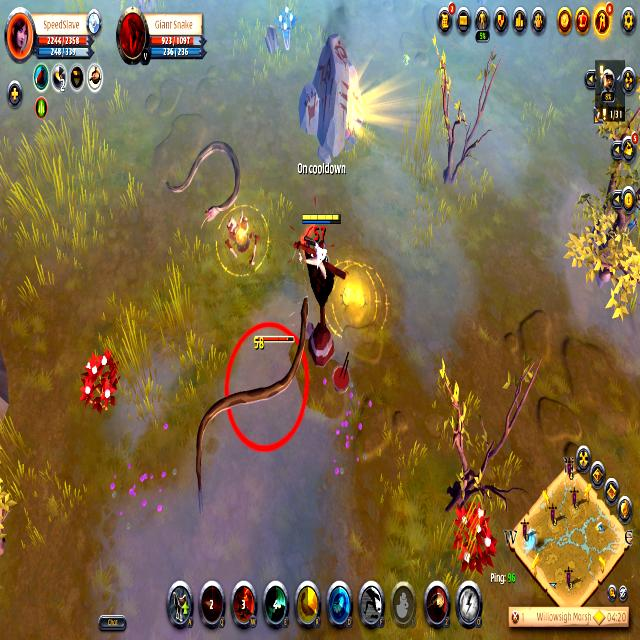hide: (450, 505, 504, 580), (78, 345, 124, 420), (274, 2, 296, 56)
ore: (188, 283, 318, 514)
red: (296, 204, 344, 280)
